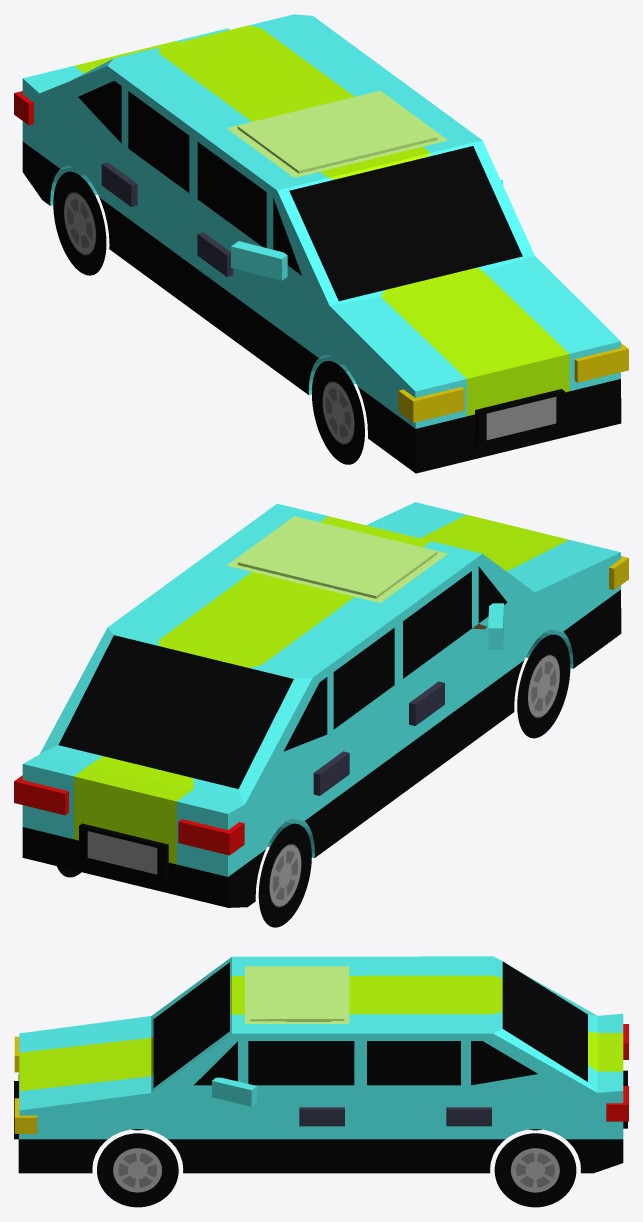
File: Mobil_Atap_10_Biru_D.fbx
3 renders of one model, top to bottom at view 1: azimuth 30°, elevation 25°; view 2: azimuth 150°, elevation 25°; view 3: azimuth 270°, elevation 25°, orthographic. The views are drawn at different scales.
Visible parts, largest first — view 1: Mobil1.002; view 2: Mobil1.002; view 3: Mobil1.002.
Boxes of the visible parts, x1,y1,x2,y2 form: Mobil1.002: (14, 14, 628, 473); Mobil1.002: (14, 502, 628, 927); Mobil1.002: (14, 956, 628, 1207).
Bounding box in the file's own units: 529 × 426 × 1348.
6 materials, 4 textured.
